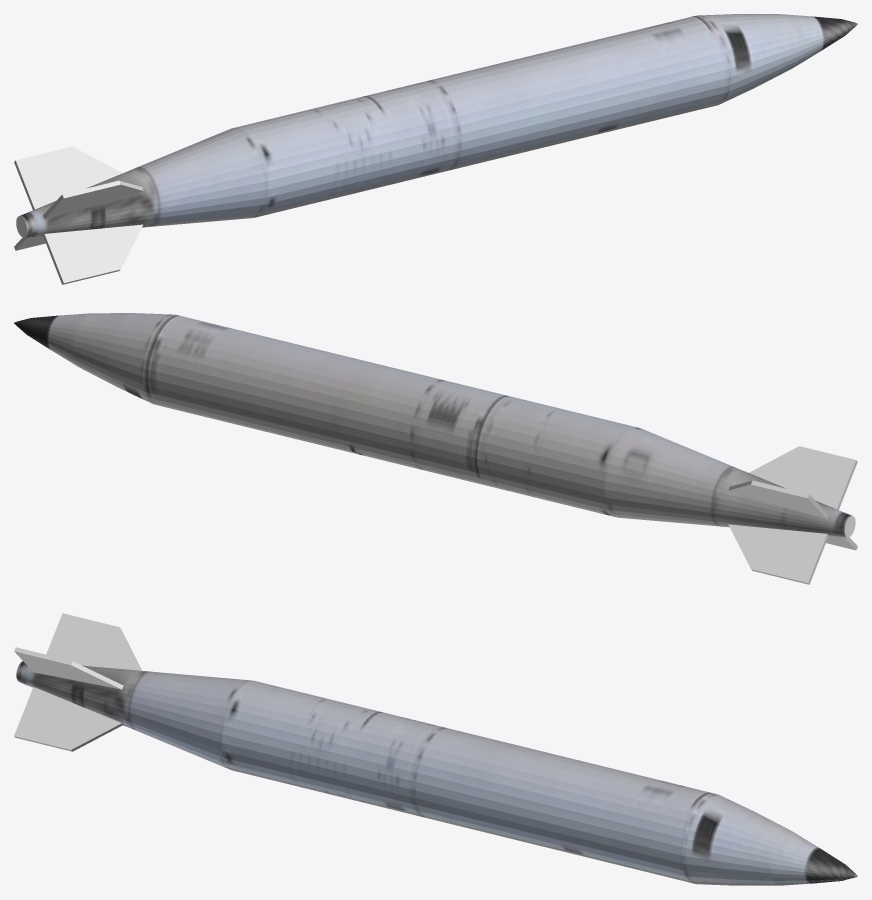
The picture shows the model from 3 angles, top to bottom: view 1: azimuth 30°, elevation 25°; view 2: azimuth 150°, elevation 25°; view 3: azimuth 330°, elevation 25°; orthographic projection.
Parts seen in each view (by area): view 1: 円柱.002; view 2: 円柱.002; view 3: 円柱.002.
Part boxes in pixels (bbox=[...]): 円柱.002: bbox=[14, 14, 857, 284]; 円柱.002: bbox=[14, 313, 857, 584]; 円柱.002: bbox=[14, 613, 857, 885].
Bounding box in the file's own units: 4.34 × 0.4498 × 0.4498.
1 material, 1 textured.
